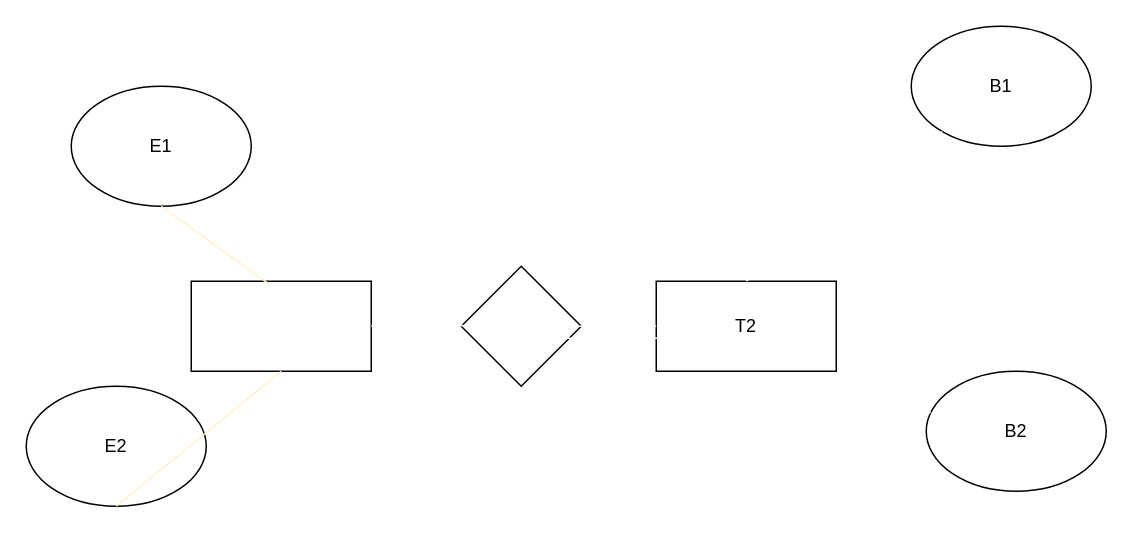
The diagram is 1133 pixels wide and 534 high, and some of its shapes have lost their labels. The centre of each missing label's shape, as x and y in pixels:
"connect" goes at [520,325].
"T1" goes at [280,325].
